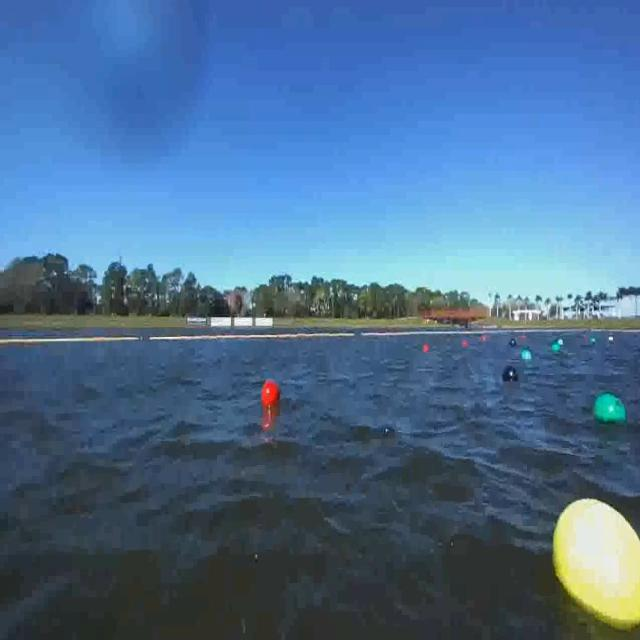black-buoy: (502, 367, 518, 384)
green-buoy: (592, 395, 626, 426)
red-buoy: (264, 377, 283, 406), (424, 344, 429, 354)
yellow-buoy: (550, 497, 638, 638)
